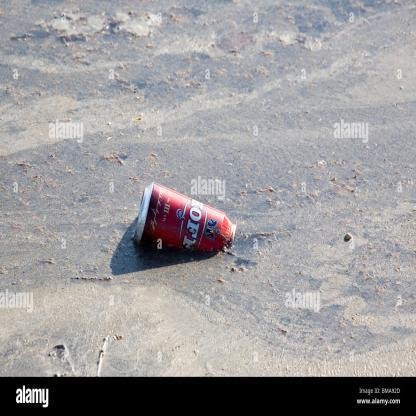can: (132, 185, 238, 254)
